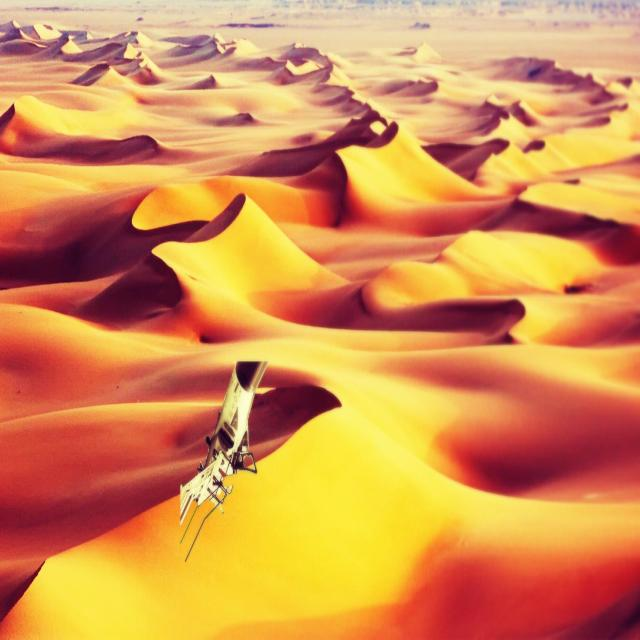airplane: (178, 360, 268, 563)
